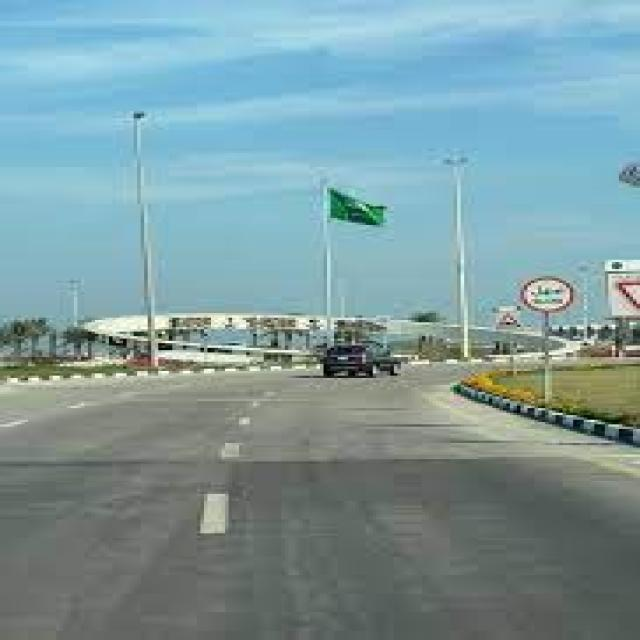Street Light: (127, 109, 165, 369), (440, 153, 474, 357)
